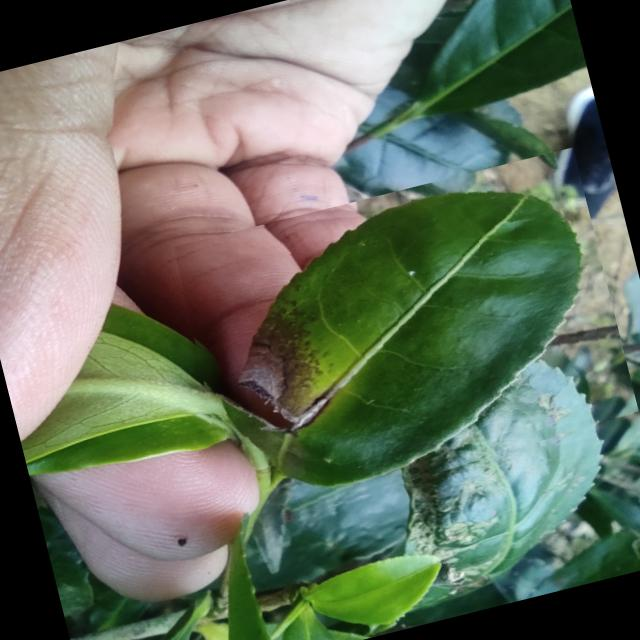Category C 4-7 days: (164, 145, 640, 532)
